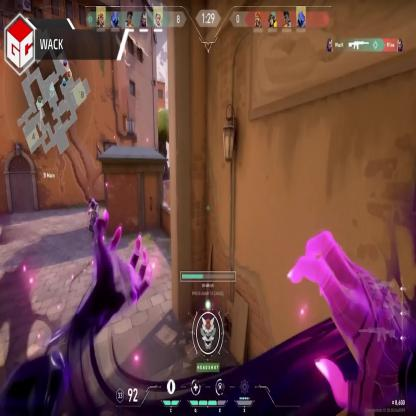enemy: (88, 198, 100, 238)
enemy_head: (91, 198, 95, 206)
